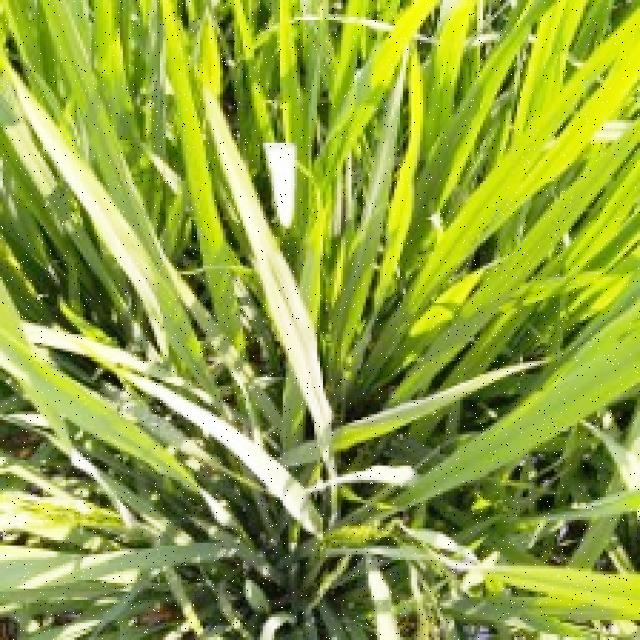health: (302, 5, 640, 411)
